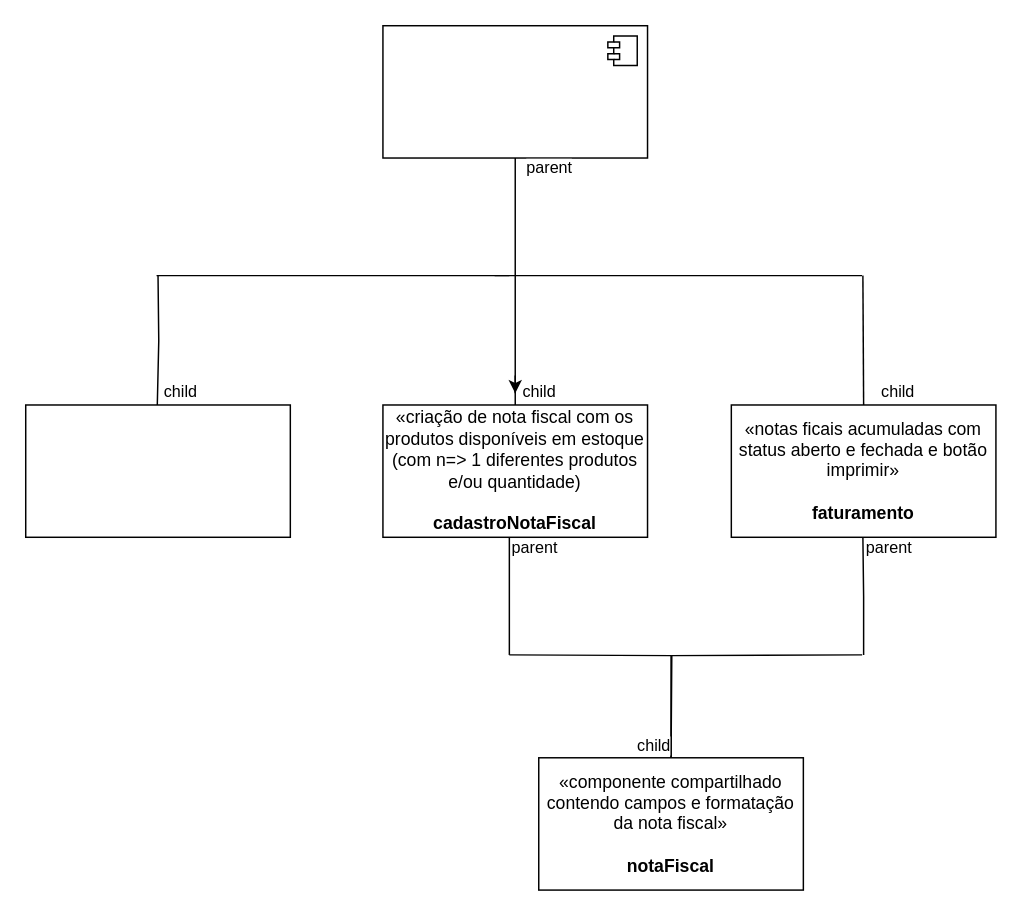
The diagram is 1022 pixels wide and 916 high, and some of its shapes have lost their labels. Here are the shapes that lost their labels. From the top down, the centre of each, then its label:
At pixel 514 91: "App".
At pixel 157 470: "«página inicial com tabela de produtos e opção de cadastro» estoque".
